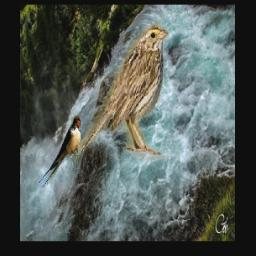Sparrow: (78, 21, 169, 162)
Swallow: (39, 116, 81, 188)
